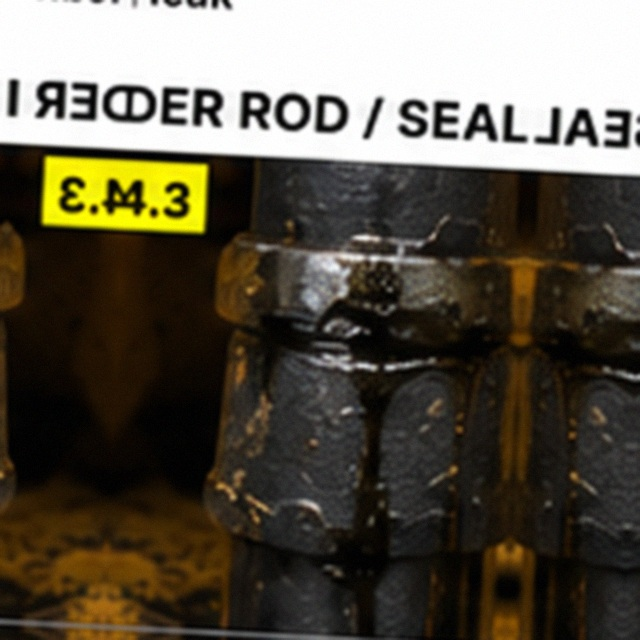hydraulic_oil_leak: (208, 192, 479, 458)
